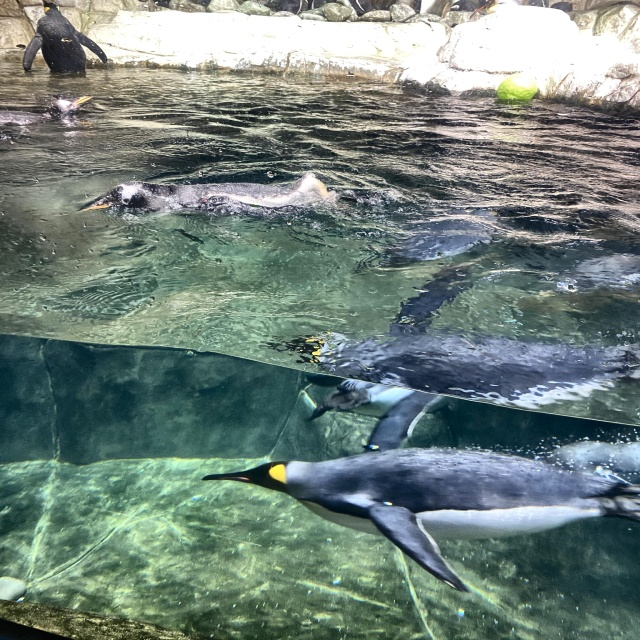penguin: (202, 392, 639, 594), (275, 327, 639, 418), (77, 174, 338, 224), (386, 258, 496, 335), (381, 206, 504, 268), (22, 2, 110, 75), (535, 252, 639, 300), (0, 94, 95, 134)
